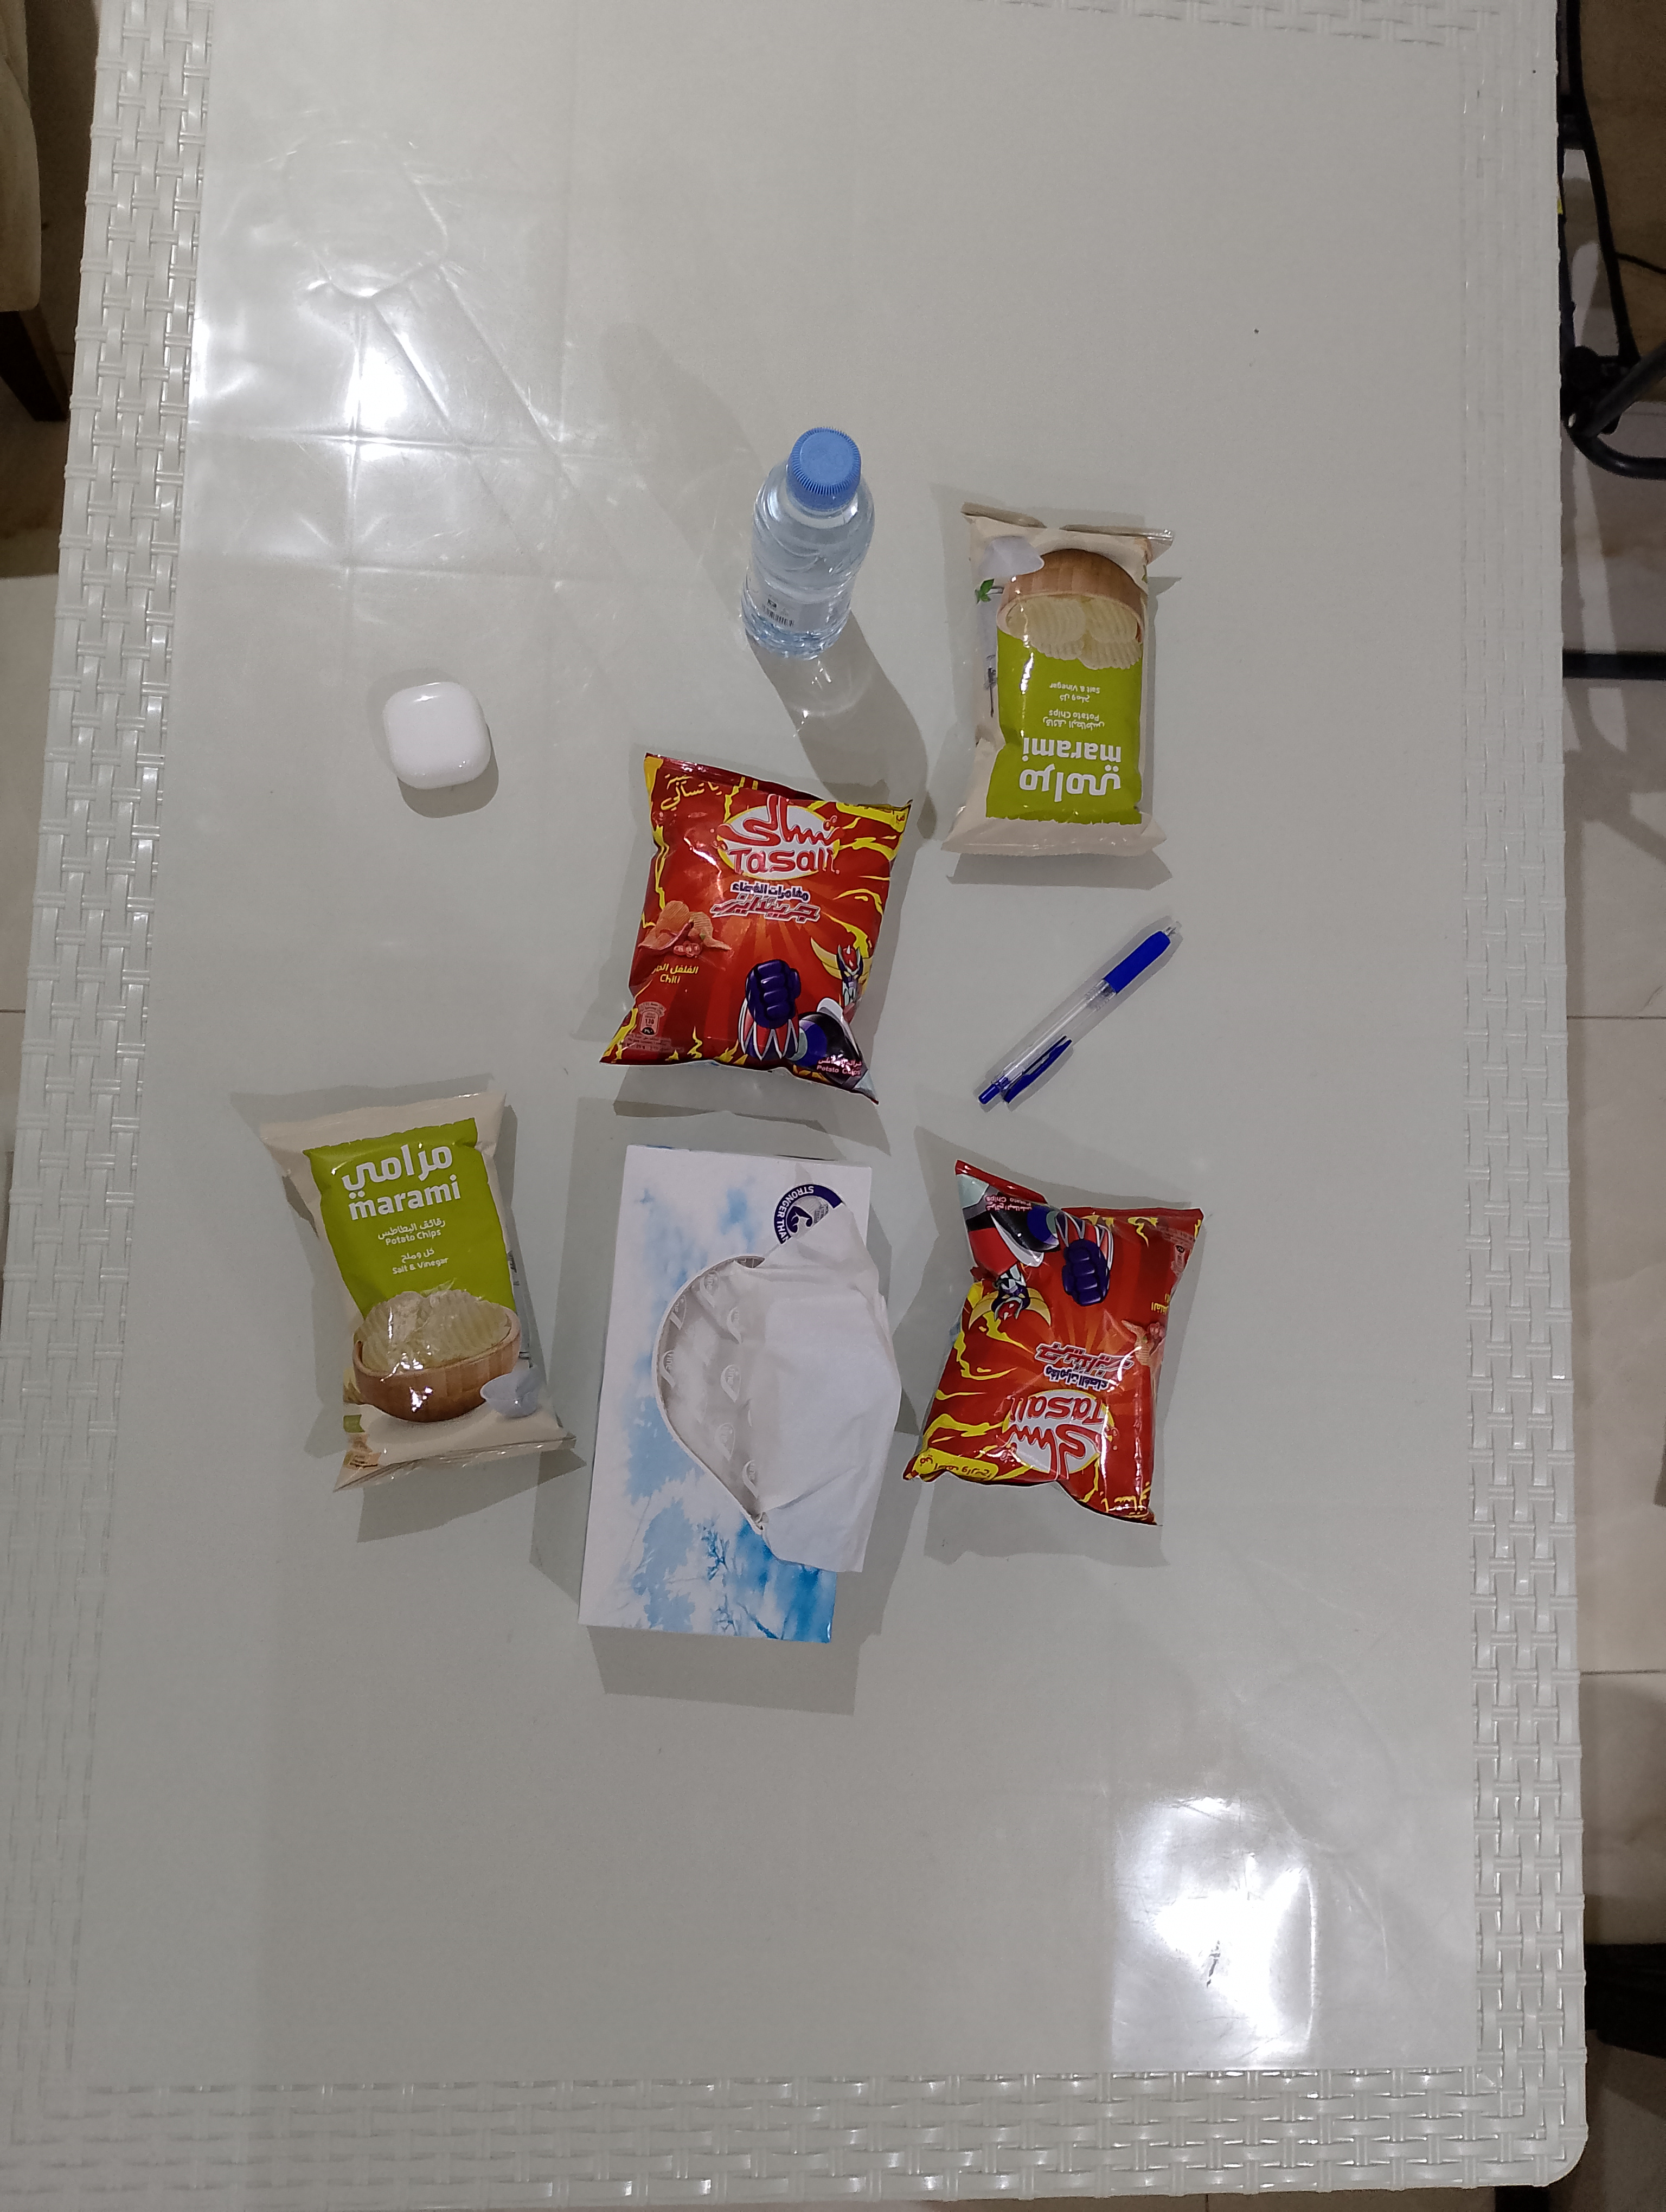marami_salt_&_vinegar: (259, 1089, 578, 1495), (940, 500, 1174, 859)
tasali_hot_chili: (901, 1159, 1204, 1528), (598, 752, 914, 1105)
